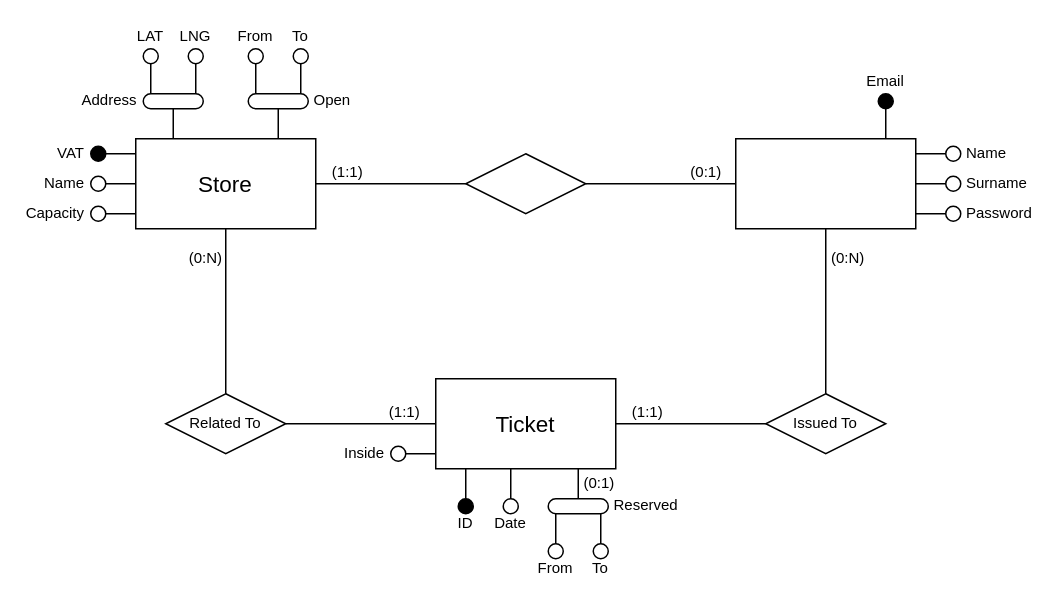
Some shapes in this 1058 by 603 pixel diagram are drawn without their labels. The shapes that lost their labels are listed below. From the top down, each one's centre as x and y in pixels, then its label:
the point at 525,183: Manages
the point at 825,183: User
